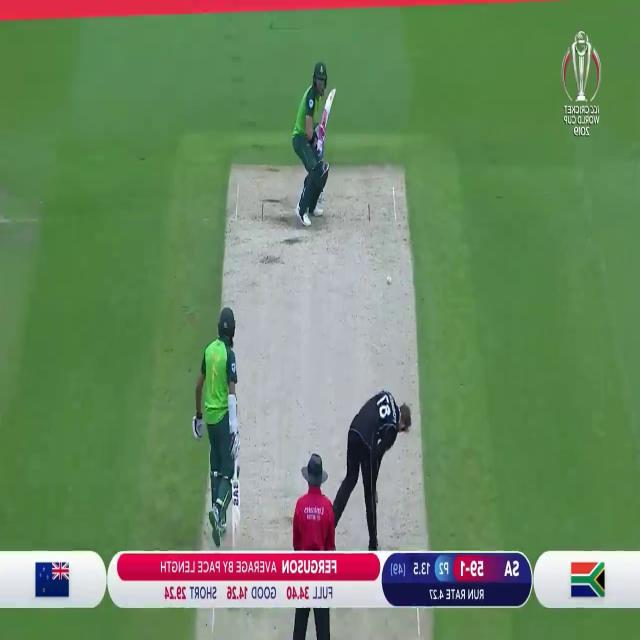ball: (383, 271, 394, 293)
